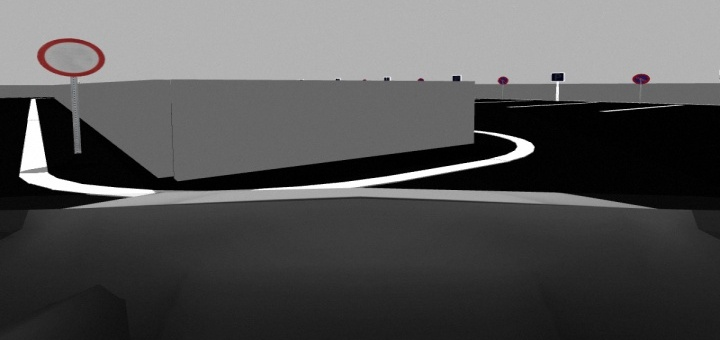girilmez: (37, 37, 106, 79)
